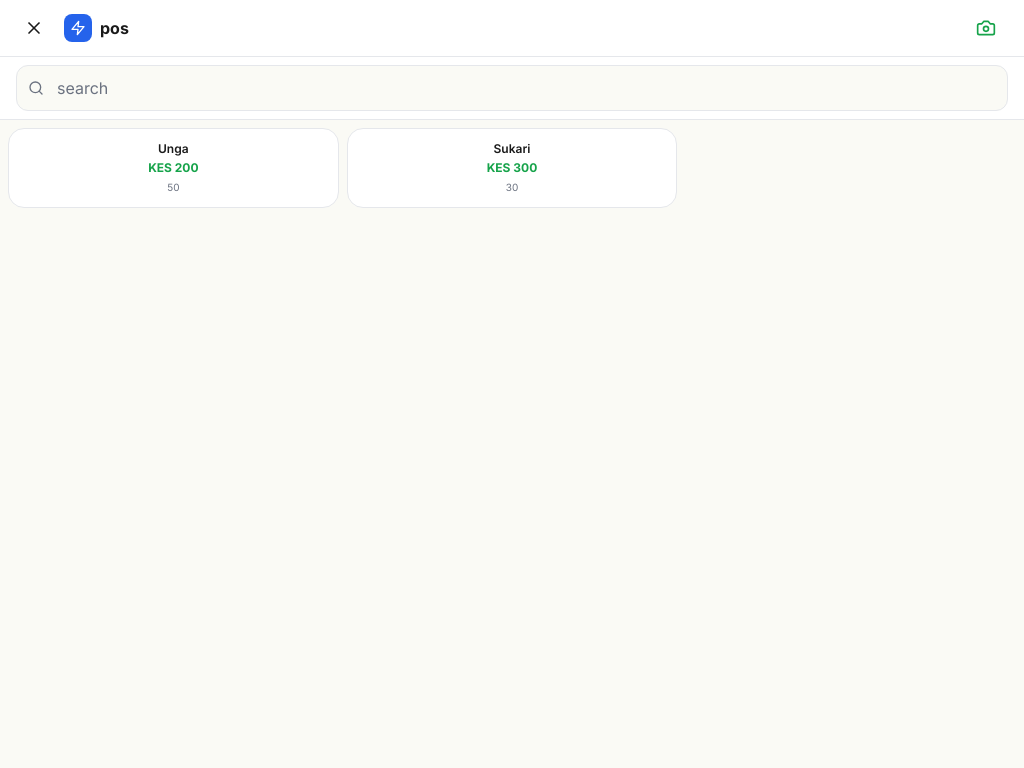
Test: PosScreen — Money Safety › removes item when quantity reaches zero
Click the button "Unga KES 200 50" at (173, 168), box [8,128,339,208]
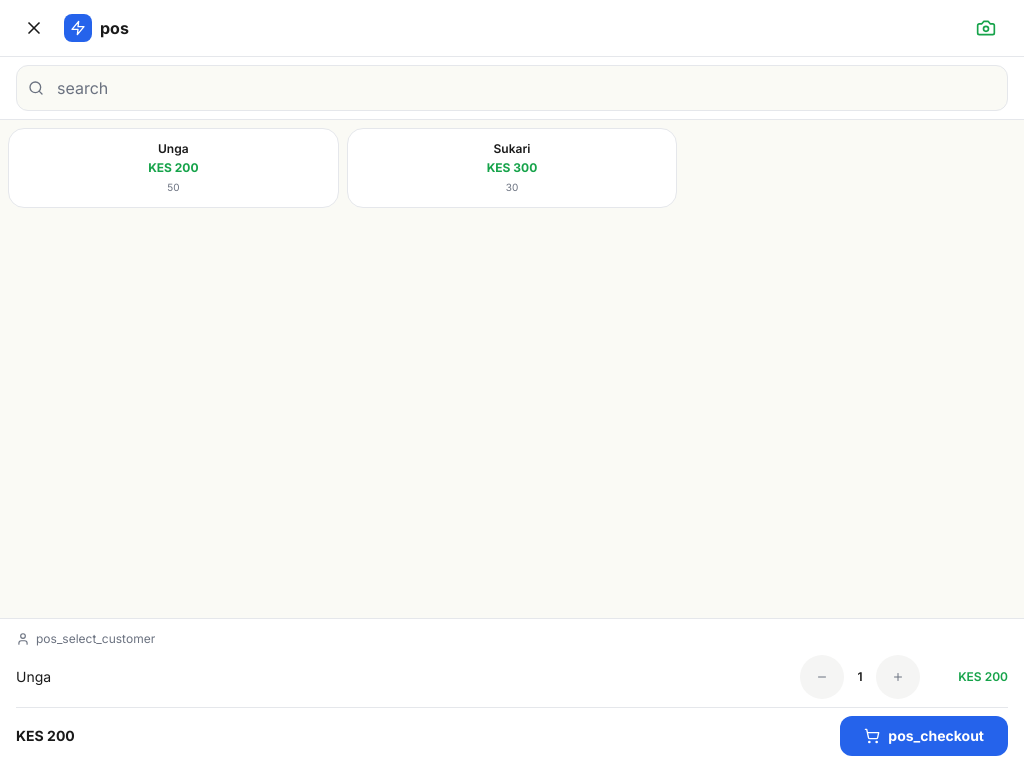
Click the button named "Decrease quantity" at (822, 677), box [800,655,844,699]
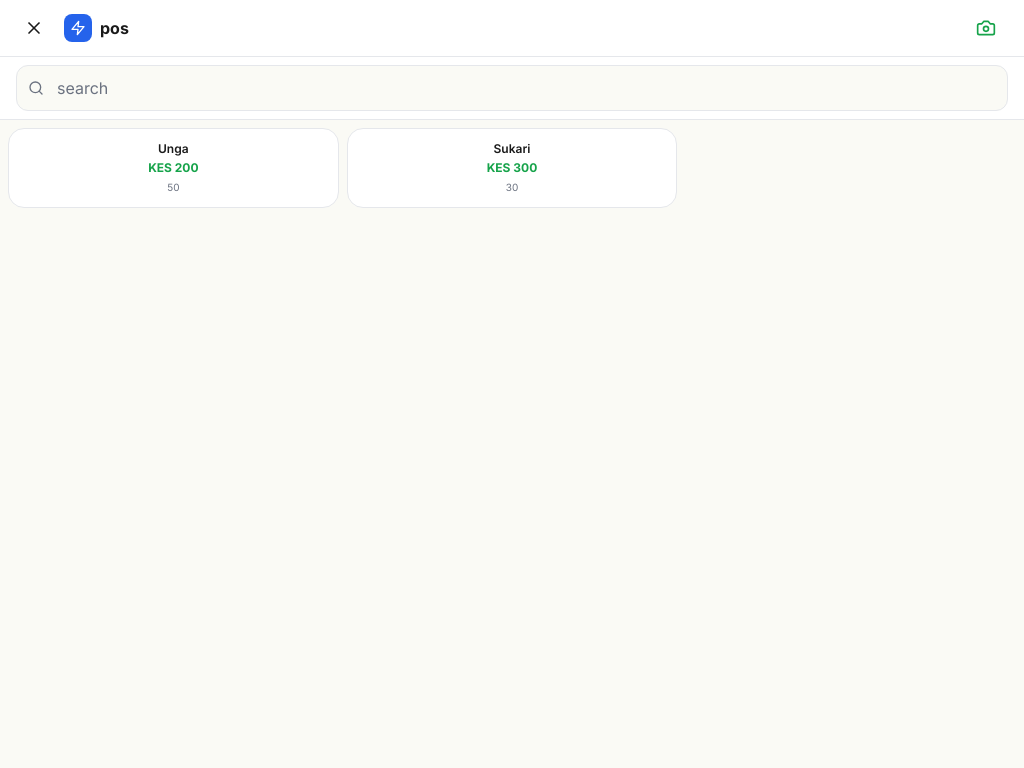
Result: the button "pos_checkout" is gone
